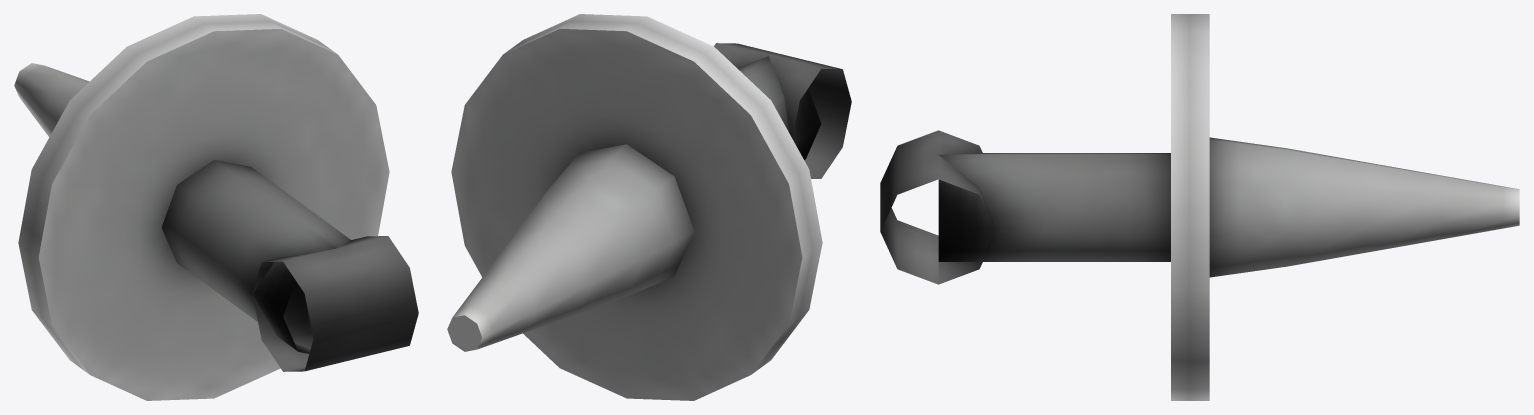
The model's file is low gain static.obj.
The picture shows the model from 3 angles, left to right: view 1: azimuth 30°, elevation 25°; view 2: azimuth 150°, elevation 25°; view 3: azimuth 270°, elevation 25°; orthographic projection. The views are drawn at different scales.
Parts seen in each view (by area): view 1: 1; view 2: 1; view 3: 1.
Part boxes in pixels (x1,y1,x2,y2): 1: [14, 14, 418, 400]; 1: [447, 14, 851, 400]; 1: [880, 14, 1519, 400].
Bounding box in the file's own units: 0.125 × 0.125 × 0.2063.
1 material, 1 textured.
